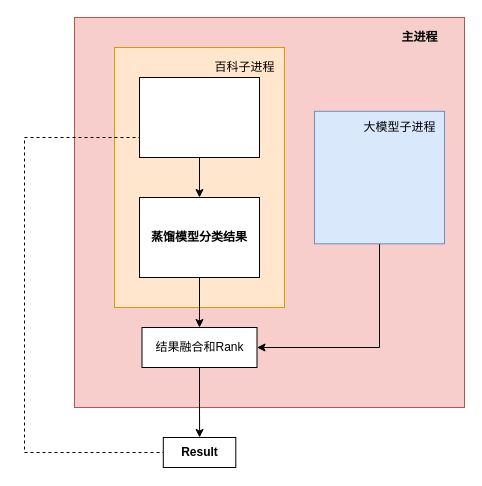
Image size: 482x486. Some labels were removed from this diagram. Here are the shapes that lost their labels. From the top down, the box of each, then its label:
(138, 76, 260, 158): 百科各子技能分类器 规则，逻辑
(314, 110, 444, 244): 大模型分类结果
